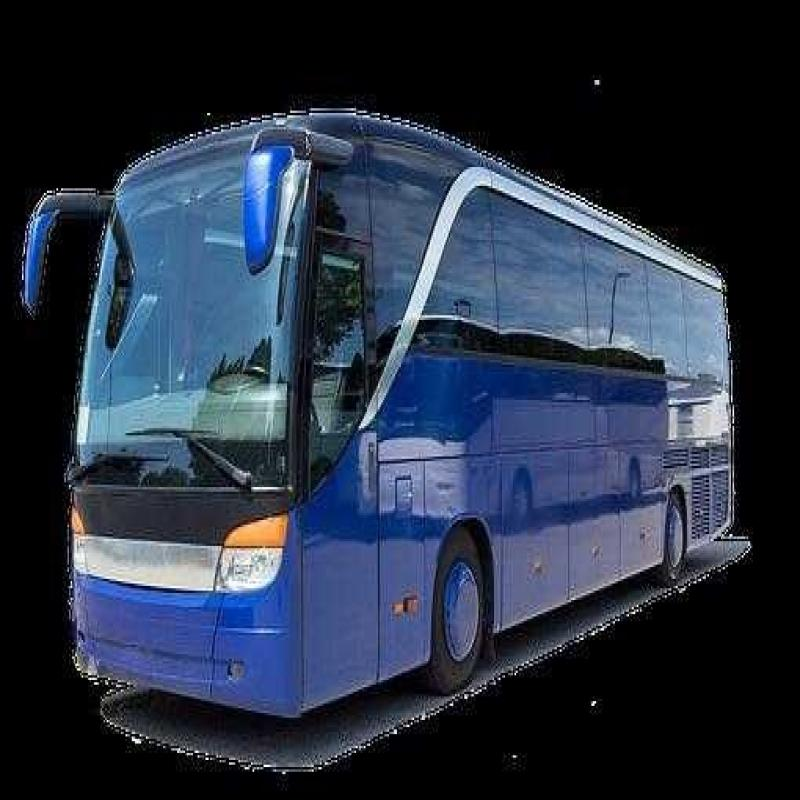bus: (29, 124, 761, 724)
